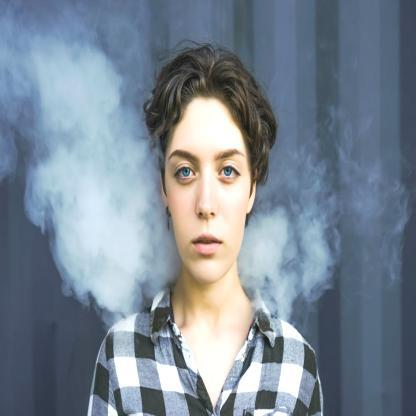person: (86, 51, 324, 416)
smoke: (6, 4, 160, 302), (241, 202, 335, 314)
